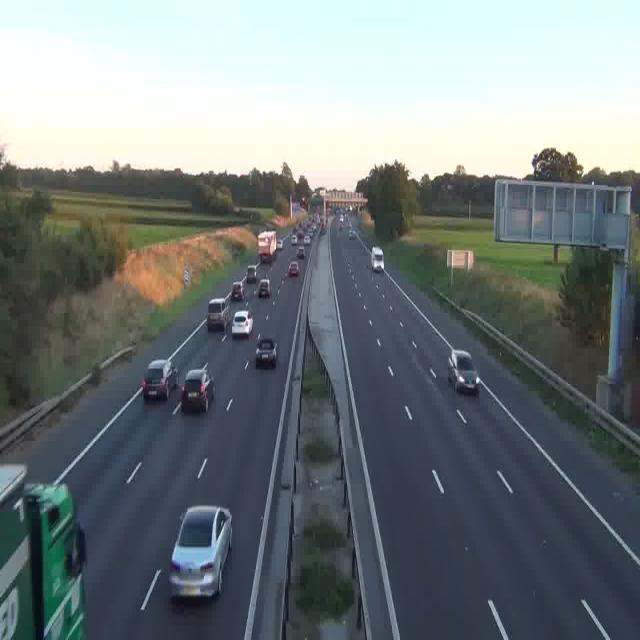car: (170, 506, 232, 600), (180, 368, 214, 412), (142, 360, 176, 402), (448, 349, 479, 394), (255, 334, 278, 366), (206, 298, 226, 330), (230, 307, 252, 336), (258, 277, 272, 298), (230, 282, 244, 301), (245, 266, 258, 284), (288, 262, 299, 278), (296, 246, 306, 259), (302, 234, 308, 244)
truck: (0, 461, 87, 640), (258, 229, 278, 266)
